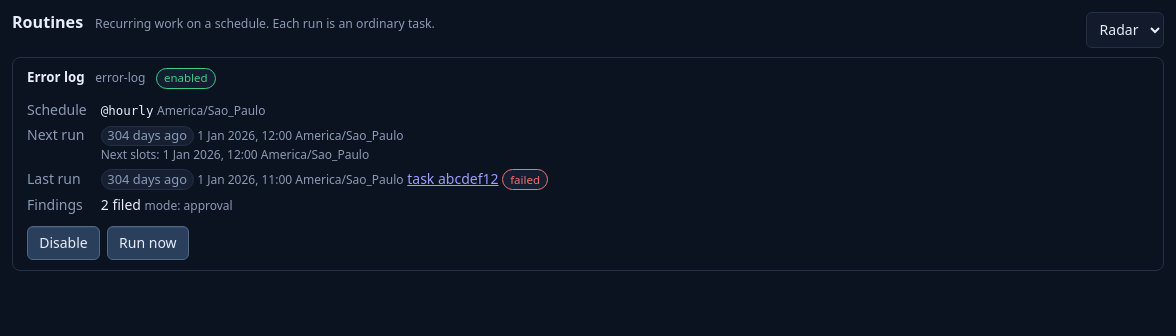
it: Routines actions › shows the API error for a forbidden action
The width and height of the screenshot is (1176, 336).
Click the button "Run now": x=148, y=243 [107,226,189,260]
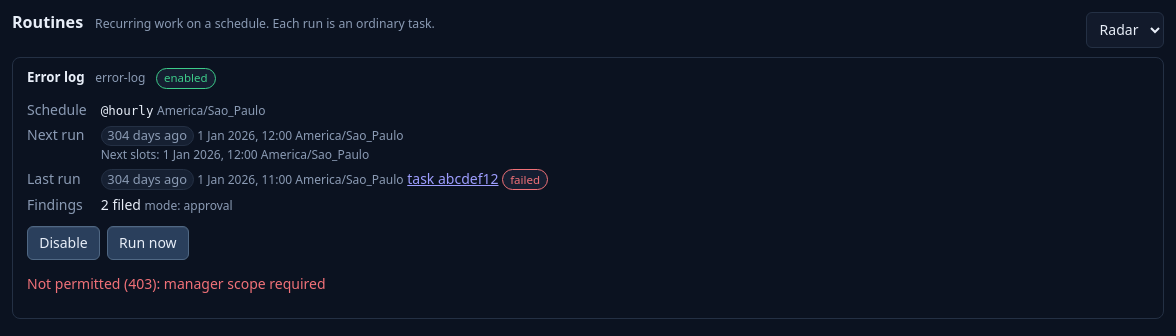
Result: the message reads "Not permitted (403): manager scope required" at [27,274,326,292]
